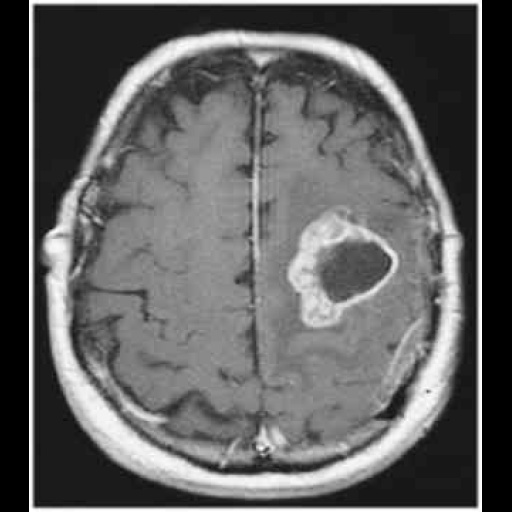tumor: (284, 205, 399, 330)
